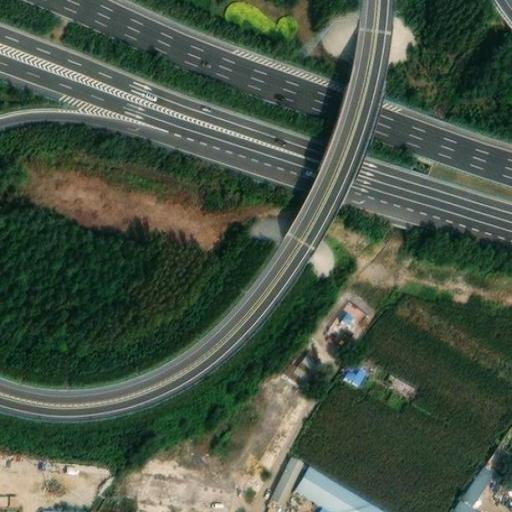building: (296, 458, 394, 512), (454, 456, 496, 512), (282, 339, 325, 383), (325, 293, 367, 338), (268, 451, 303, 501), (385, 366, 418, 394), (343, 354, 370, 381), (317, 499, 346, 512), (39, 504, 85, 512)
